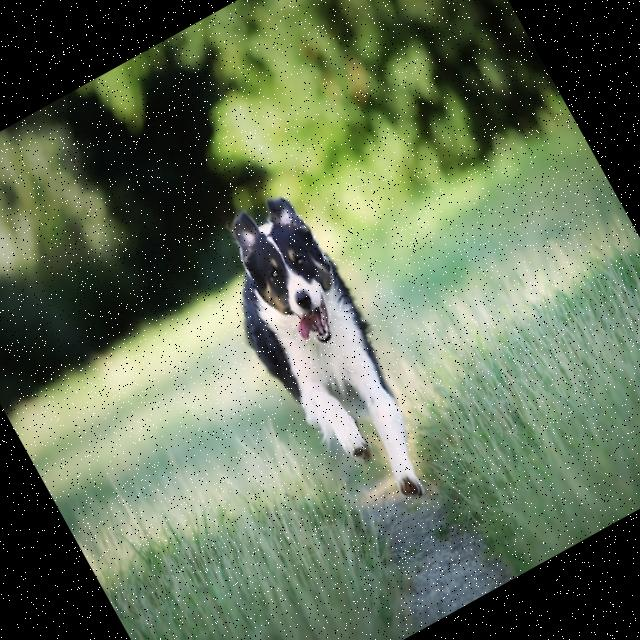Dog: (196, 190, 454, 534)
